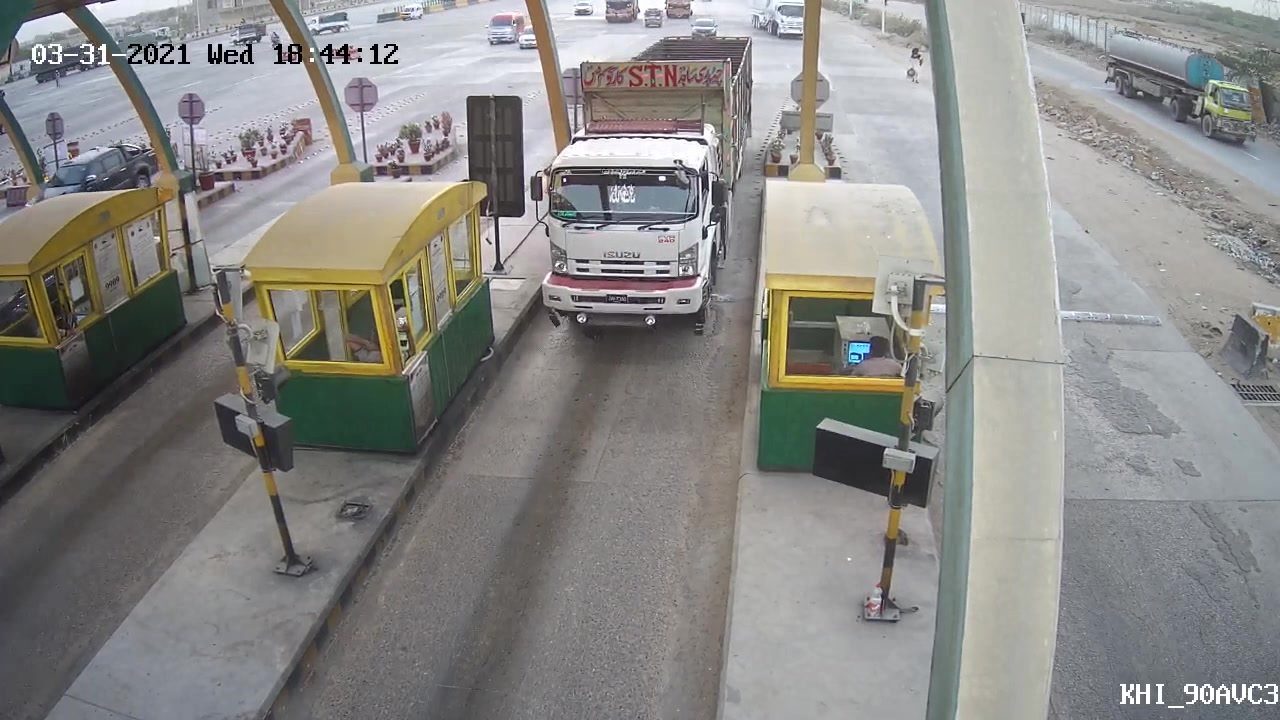F6: (530, 30, 763, 342)
